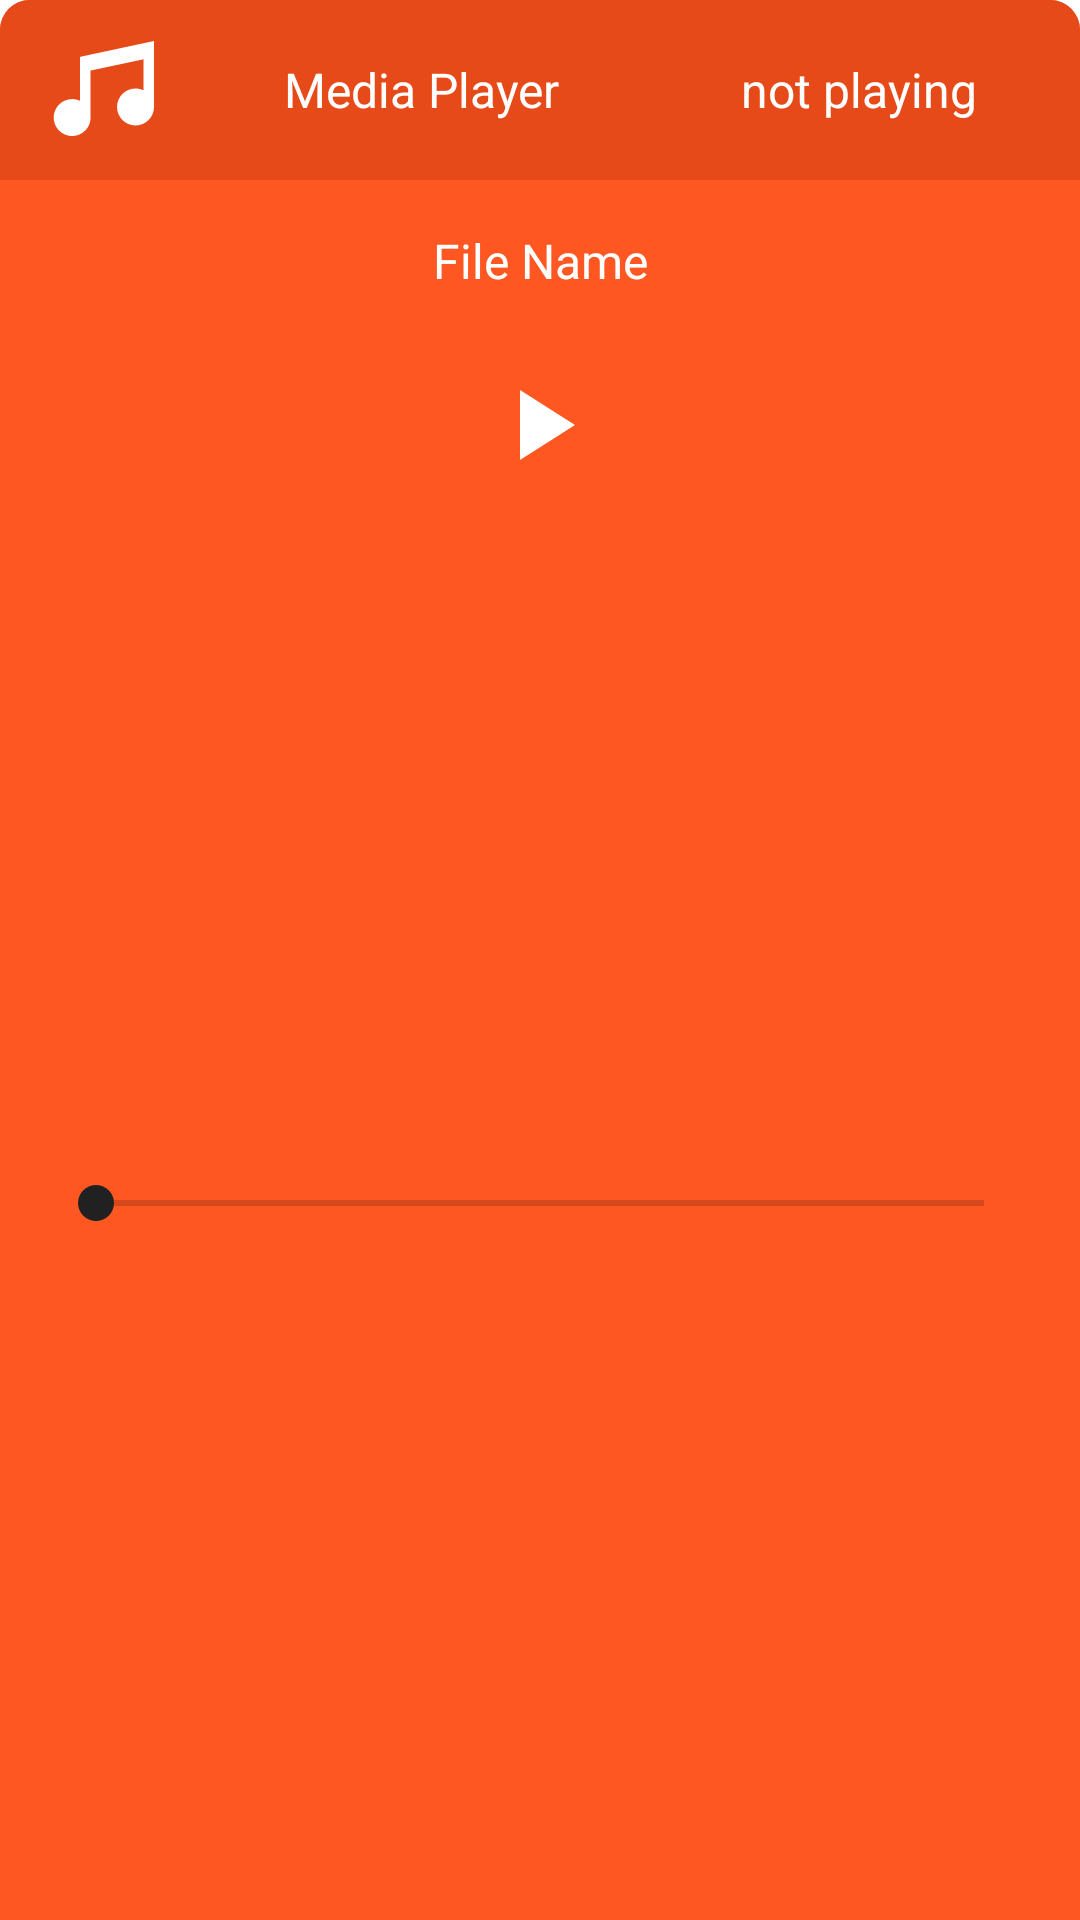

Where icons sit on this 1080*1920 app screen, as (left=x1, top=y1, right=x2, bottom=y2):
music: (left=53, top=41, right=154, bottom=136)
play now: (left=520, top=390, right=575, bottom=460)
